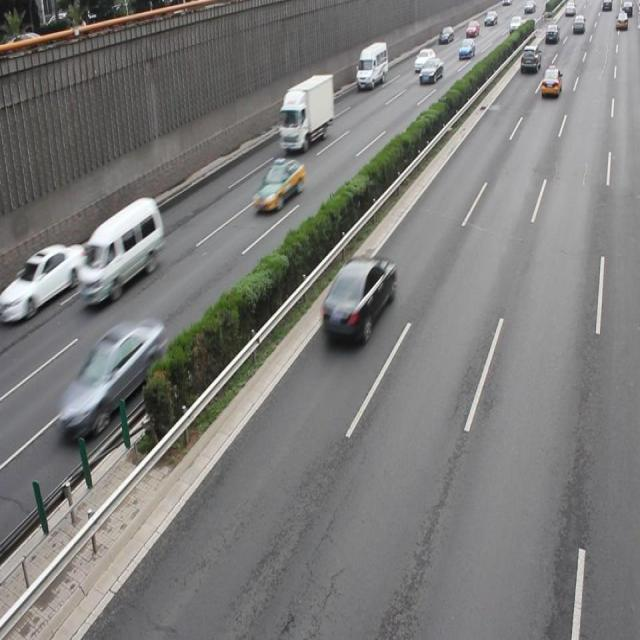bus: (278, 74, 332, 150)
car: (58, 317, 166, 439), (319, 253, 394, 347), (9, 242, 87, 322), (252, 157, 306, 212)
truck: (76, 197, 165, 306)
